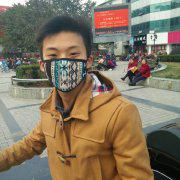OK: (44, 44, 88, 87)
